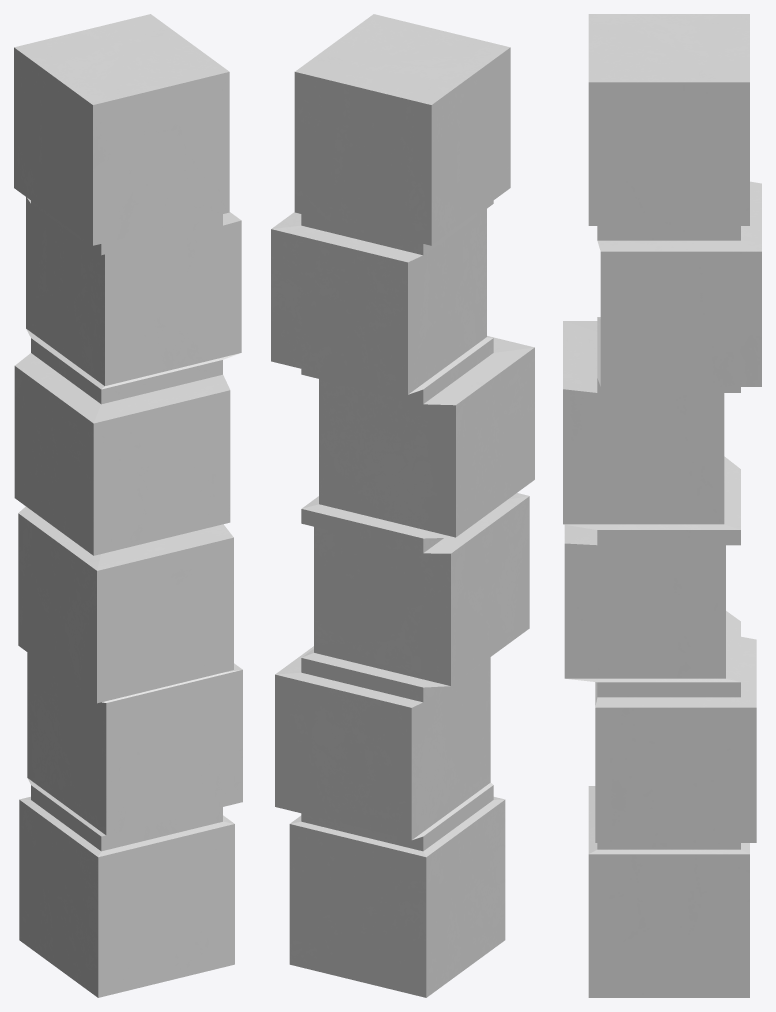
File: Pillar_WhiteBox.fbx
The picture shows the model from 3 angles, left to right: view 1: azimuth 30°, elevation 25°; view 2: azimuth 150°, elevation 25°; view 3: azimuth 270°, elevation 25°; orthographic projection. The views are drawn at different scales.
Visible parts, largest first — view 1: Pillar_Square_White; view 2: Pillar_Square_White; view 3: Pillar_Square_White.
Part boxes in pixels (x1,y1,x2,y2): Pillar_Square_White: (14,14,242,997); Pillar_Square_White: (271,14,534,997); Pillar_Square_White: (563,14,761,997).
Bounding box in the file's own units: 94.33 × 485 × 95.62.
Materials: 1 (1 with a texture image).
